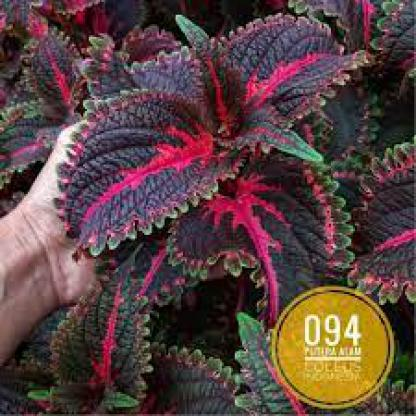Bunga Coleus: (64, 23, 347, 264)
